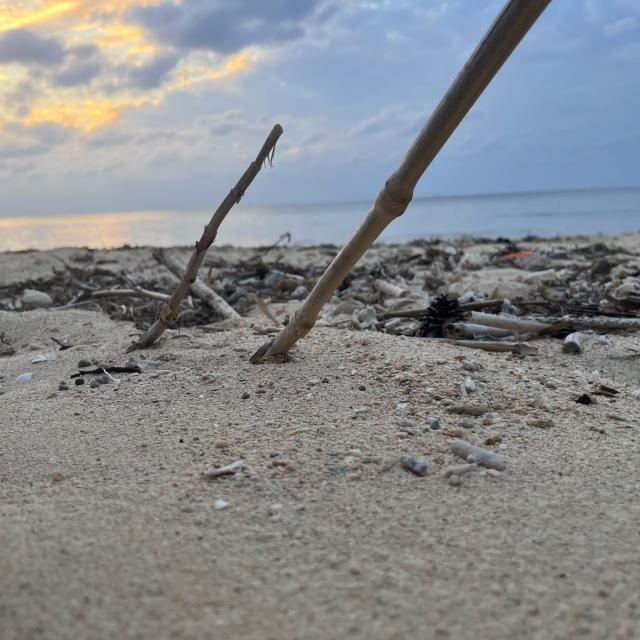pinecone: (412, 284, 475, 347)
stick: (246, 0, 553, 368), (130, 112, 285, 362), (156, 250, 247, 320)
trash: (490, 246, 543, 264)
